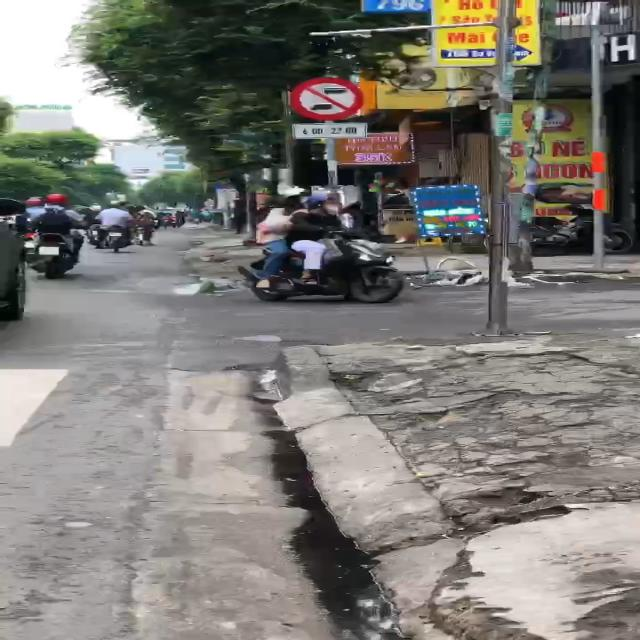Bien bao cam xe oto khach va xe oto tai: (286, 72, 368, 123)
